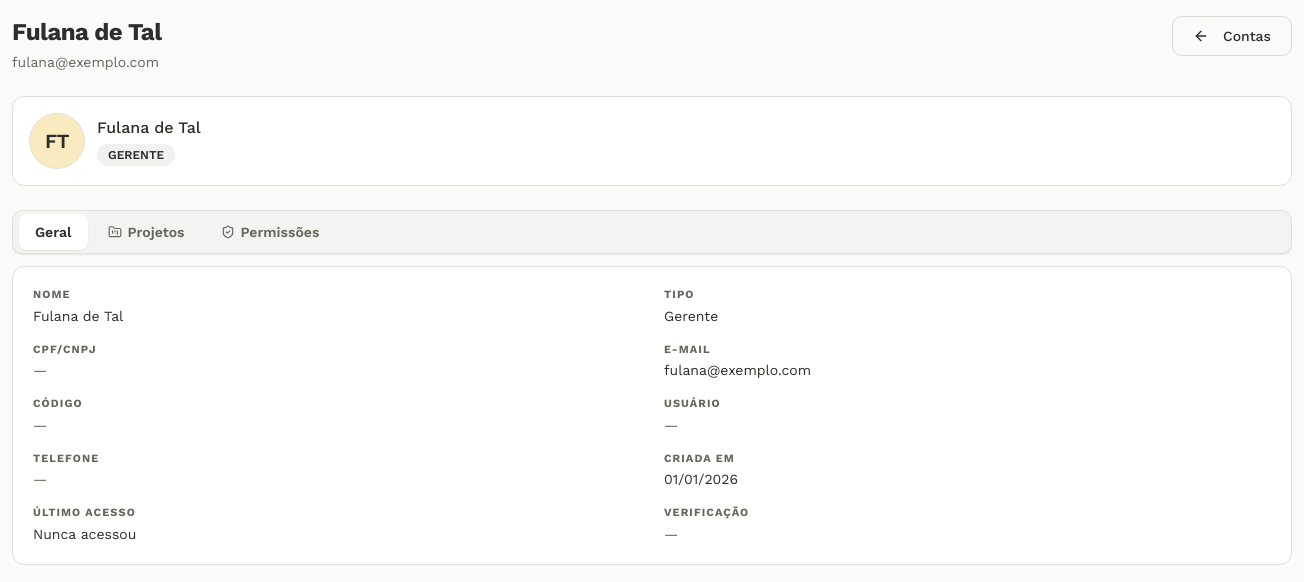
Test: UserDetailPage — o detalhe da conta (BE-027) › para o GERENTE a aba Projetos aparece E abre com conteúdo
Click the tab "Projetos" at [146, 232], box [92, 214, 200, 250]
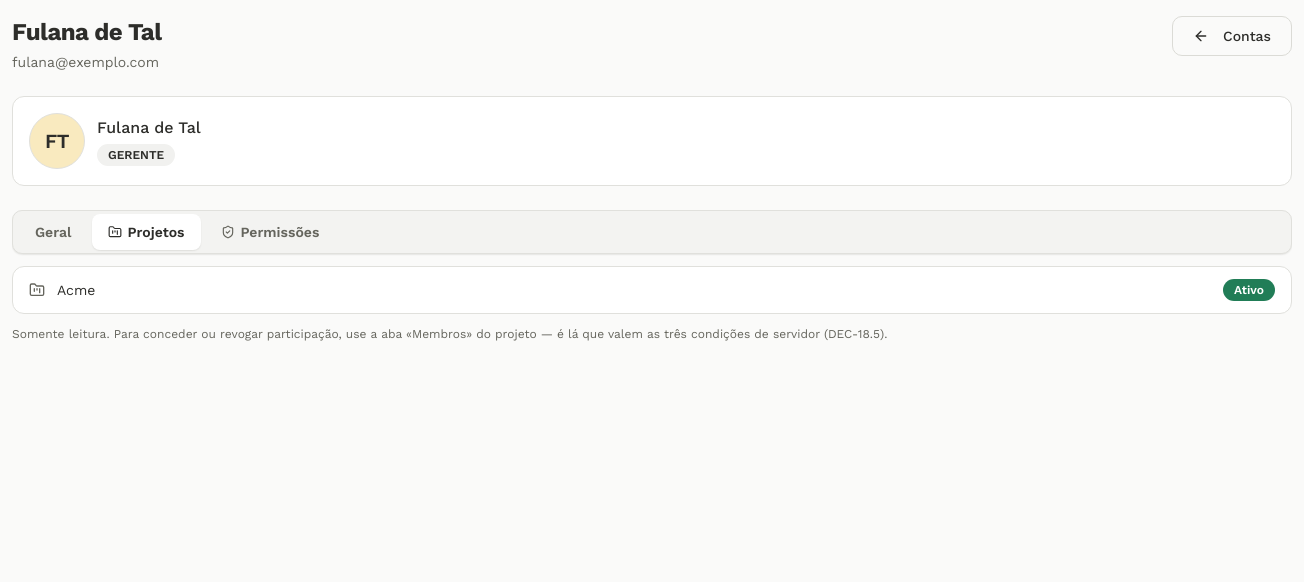
Expected: the text "Acme" is shown, [57, 282, 95, 298]
